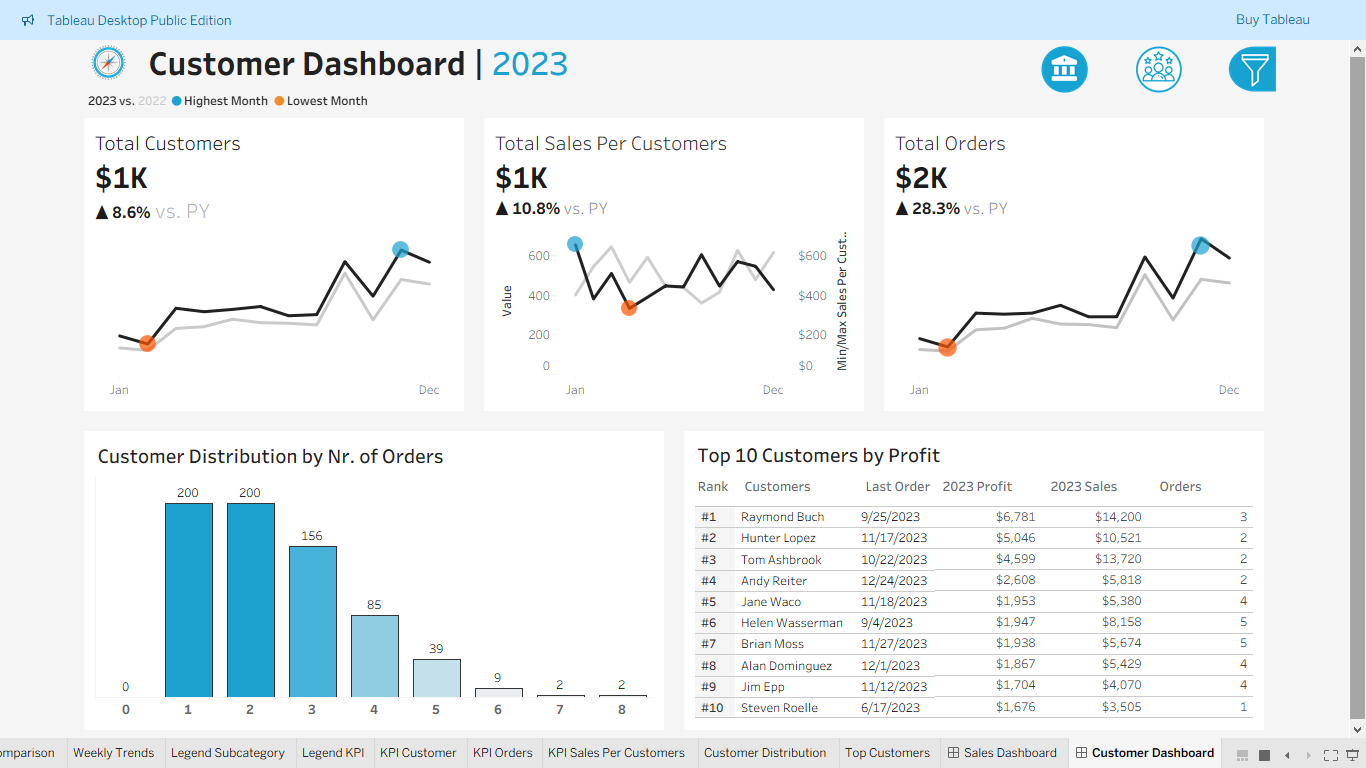

What the dashboard file says about the page in this screenshot:
{"tool":"tableau","page":{"name":"Customer Dashboard","canvas":[1000,1000],"units":"permille","ordinal":0},"visuals":[{"type":"image","param":"Image/Icon - Logo.png","box":[0,0,56.7,62.9]},{"type":"text","box":[56.7,0,943.3,62.9]},{"type":"dashboard-object","box":[785.8,1.4,78.3,80]},{"type":"dashboard-object","box":[864.2,1.4,78.3,80]},{"type":"blank","box":[815.2,18.6,171.3,74.3]},{"type":"worksheet","title":"Legend KPI","mark":"Automatic","box":[0,62.9,1000,48.6]},{"type":"text","box":[815.2,92.9,171.3,48.6]},{"type":"worksheet","title":"KPI Customer","mark":"Line","rows":["Calculation_162411118888632323"],"cols":["Order Date"],"box":[0,111.4,333.3,432.9]},{"type":"worksheet","title":"KPI Sales Per Customers","mark":"Automatic","rows":["Calculation_604608308018782208"],"cols":["Order Date"],"box":[333.3,111.4,333.3,432.9]},{"type":"worksheet","title":"KPI Orders","mark":"Automatic","rows":["Calculation_117375122852225029"],"cols":["Order Date"],"box":[666.7,111.4,333.3,432.9]},{"type":"parameter","param":"[Parameters].[Parameter 1]","box":[815.2,141.4,171.3,81.4]},{"type":"blank","box":[815.2,222.9,171.3,80]},{"type":"text","box":[815.2,302.9,171.3,41.4]},{"type":"filter","title":"KPI Customer","param":"[federated.0z51kn80oo3xuu15p9ar91ivaggo].[none:Category:nk]","box":[815.2,344.3,171.3,74.3]},{"type":"filter","title":"KPI Customer","param":"[federated.0z51kn80oo3xuu15p9ar91ivaggo].[none:Sub-Category:nk]","box":[815.2,418.6,171.3,74.3]},{"type":"text","box":[815.2,492.9,171.3,41.4]},{"type":"filter","title":"KPI Customer","param":"[federated.0z51kn80oo3xuu15p9ar91ivaggo].[none:Region:nk]","box":[815.2,534.3,171.3,74.3]},{"type":"text","box":[14.2,568.6,471.7,48.6]},{"type":"text","box":[514.2,568.6,471.7,45.7]},{"type":"filter","title":"KPI Customer","param":"[federated.0z51kn80oo3xuu15p9ar91ivaggo].[none:State:nk]","box":[815.2,608.6,171.3,70]},{"type":"text","box":[514.2,614.3,39.2,45.7]},{"type":"text","box":[553.3,614.3,100.8,45.7]},{"type":"text","box":[654.2,614.3,64.2,45.7]},{"type":"text","box":[718.3,614.3,90.3,45.7]},{"type":"text","box":[808.6,614.3,90.3,45.7]},{"type":"text","box":[898.9,614.3,86.9,45.7]},{"type":"worksheet","title":"Customer Distribution","mark":"Automatic","rows":["Calculation_162411118887321600"],"cols":["Calculation_604608308053184517"],"box":[14.2,617.1,471.7,358.6]},{"type":"worksheet","title":"Top Customers","mark":"Automatic","rows":["Calculation_604608308056760328","Customer Name","Order Date"],"box":[514.2,660,471.7,315.7]},{"type":"filter","title":"KPI Customer","param":"[federated.0z51kn80oo3xuu15p9ar91ivaggo].[none:City:nk]","box":[815.2,678.6,171.3,74.3]}]}

Visuals, with their boxes on the dashboard's canvas, which has no fixed pixel size, in thousandths of its width and height (x1, y1, x2, y2). These are canvas units, not pixel positions in the 1366x768 screenshot, which may show the page scaled, cropped or inside an application window:
image: pyautogui.locateOnScreen(0, 0, 57, 63)
text: pyautogui.locateOnScreen(57, 0, 1000, 63)
dashboard-object: pyautogui.locateOnScreen(786, 1, 864, 81)
dashboard-object: pyautogui.locateOnScreen(864, 1, 942, 81)
blank: pyautogui.locateOnScreen(815, 19, 986, 93)
"Legend KPI" worksheet: pyautogui.locateOnScreen(0, 63, 1000, 112)
text: pyautogui.locateOnScreen(815, 93, 986, 142)
"KPI Customer" worksheet (Line marks): pyautogui.locateOnScreen(0, 111, 333, 544)
"KPI Sales Per Customers" worksheet: pyautogui.locateOnScreen(333, 111, 667, 544)
"KPI Orders" worksheet: pyautogui.locateOnScreen(667, 111, 1000, 544)
parameter: pyautogui.locateOnScreen(815, 141, 986, 223)
blank: pyautogui.locateOnScreen(815, 223, 986, 303)
text: pyautogui.locateOnScreen(815, 303, 986, 344)
"KPI Customer" filter: pyautogui.locateOnScreen(815, 344, 986, 419)
"KPI Customer" filter: pyautogui.locateOnScreen(815, 419, 986, 493)
text: pyautogui.locateOnScreen(815, 493, 986, 534)
"KPI Customer" filter: pyautogui.locateOnScreen(815, 534, 986, 609)
text: pyautogui.locateOnScreen(14, 569, 486, 617)
text: pyautogui.locateOnScreen(514, 569, 986, 614)
"KPI Customer" filter: pyautogui.locateOnScreen(815, 609, 986, 679)
text: pyautogui.locateOnScreen(514, 614, 553, 660)
text: pyautogui.locateOnScreen(553, 614, 654, 660)
text: pyautogui.locateOnScreen(654, 614, 718, 660)
text: pyautogui.locateOnScreen(718, 614, 809, 660)
text: pyautogui.locateOnScreen(809, 614, 899, 660)
text: pyautogui.locateOnScreen(899, 614, 986, 660)
"Customer Distribution" worksheet: pyautogui.locateOnScreen(14, 617, 486, 976)
"Top Customers" worksheet: pyautogui.locateOnScreen(514, 660, 986, 976)
"KPI Customer" filter: pyautogui.locateOnScreen(815, 679, 986, 753)
